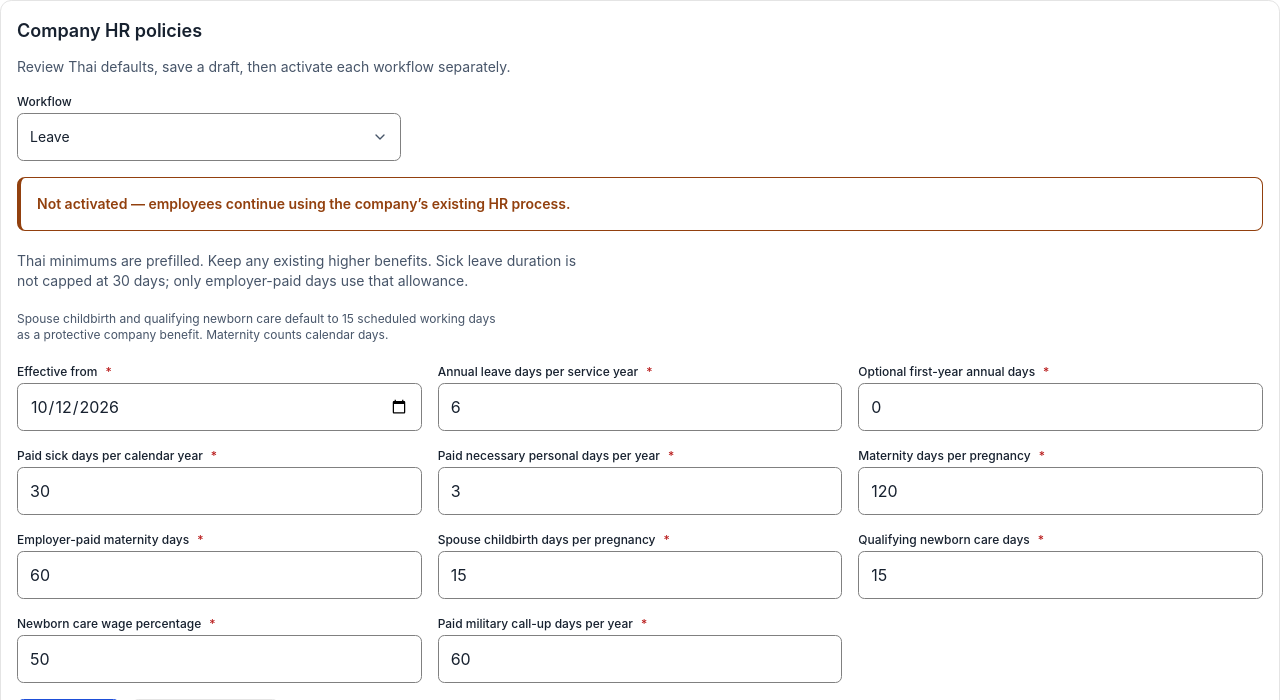
Test case: rejects below-minimum values before sending a draft
Replace the text in the number field labelled "Annual leave days per service year *" with "5". click: (640, 407)
box: x1=438 y1=383 x2=842 y2=431
(page scrolled)
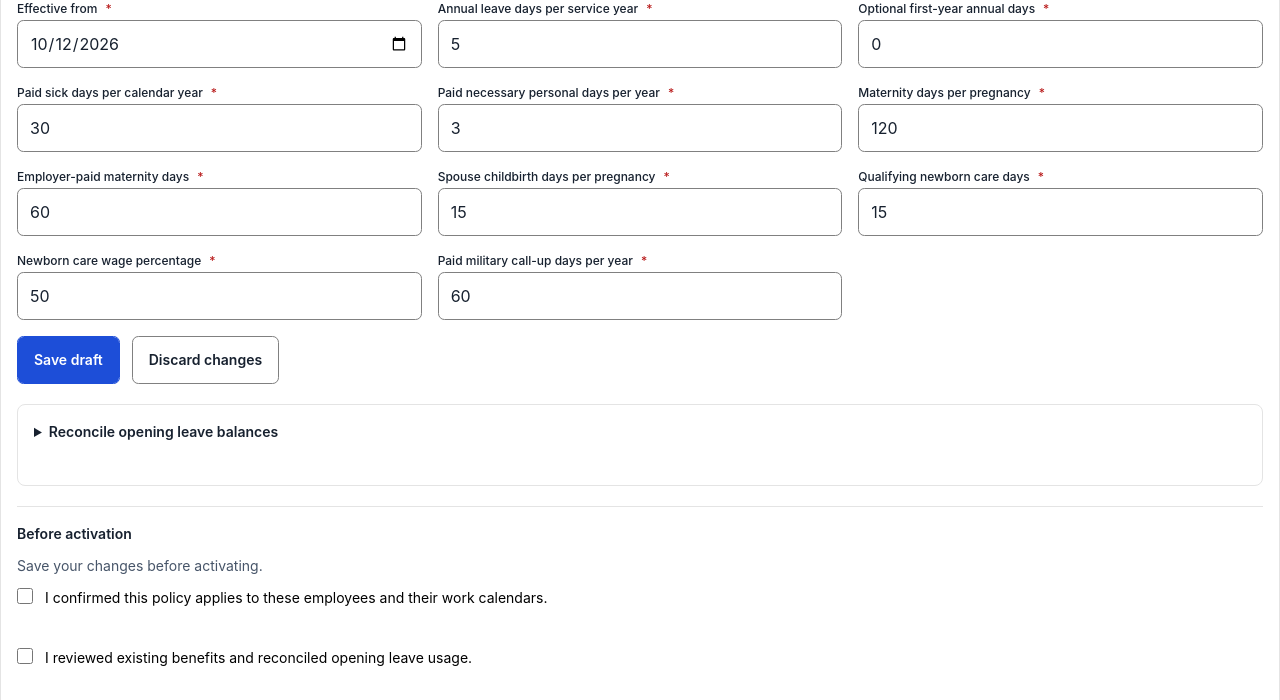
Click the button "Save draft". click: (68, 360)
box: x1=17 y1=336 x2=120 y2=384
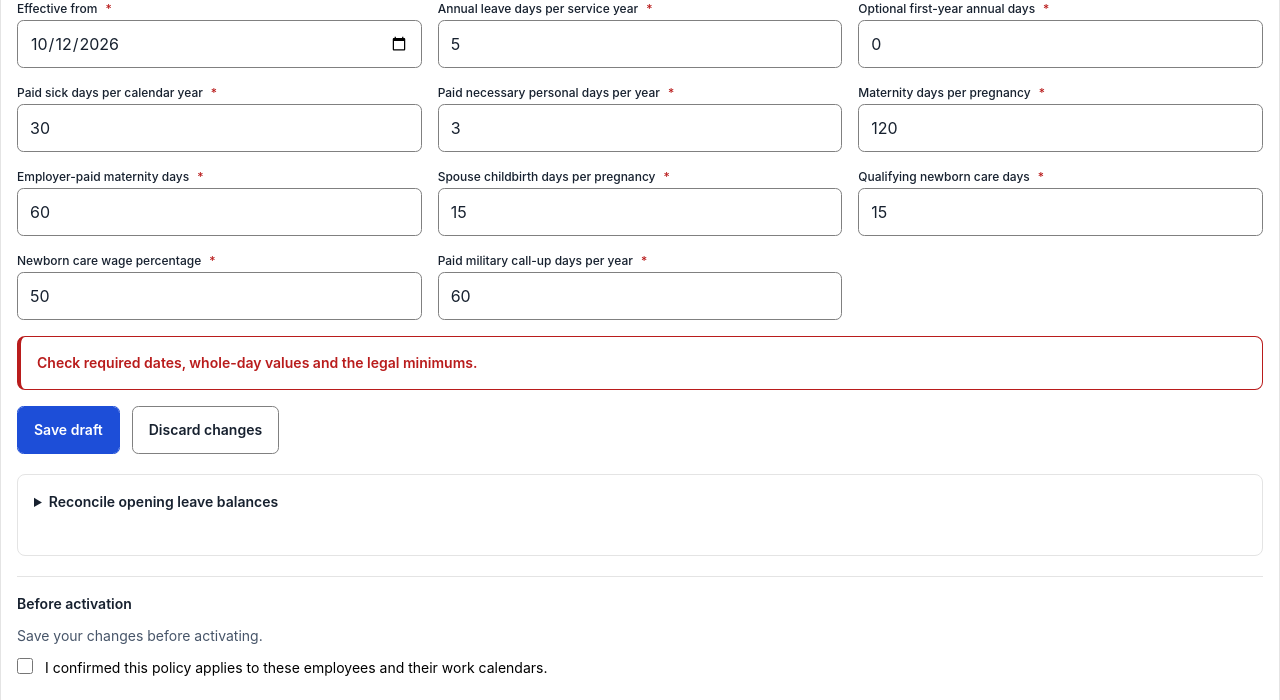
Now the text "Check required dates, whole-day values and the legal minimums." is shown, box x1=37 y1=354 x2=477 y2=371
